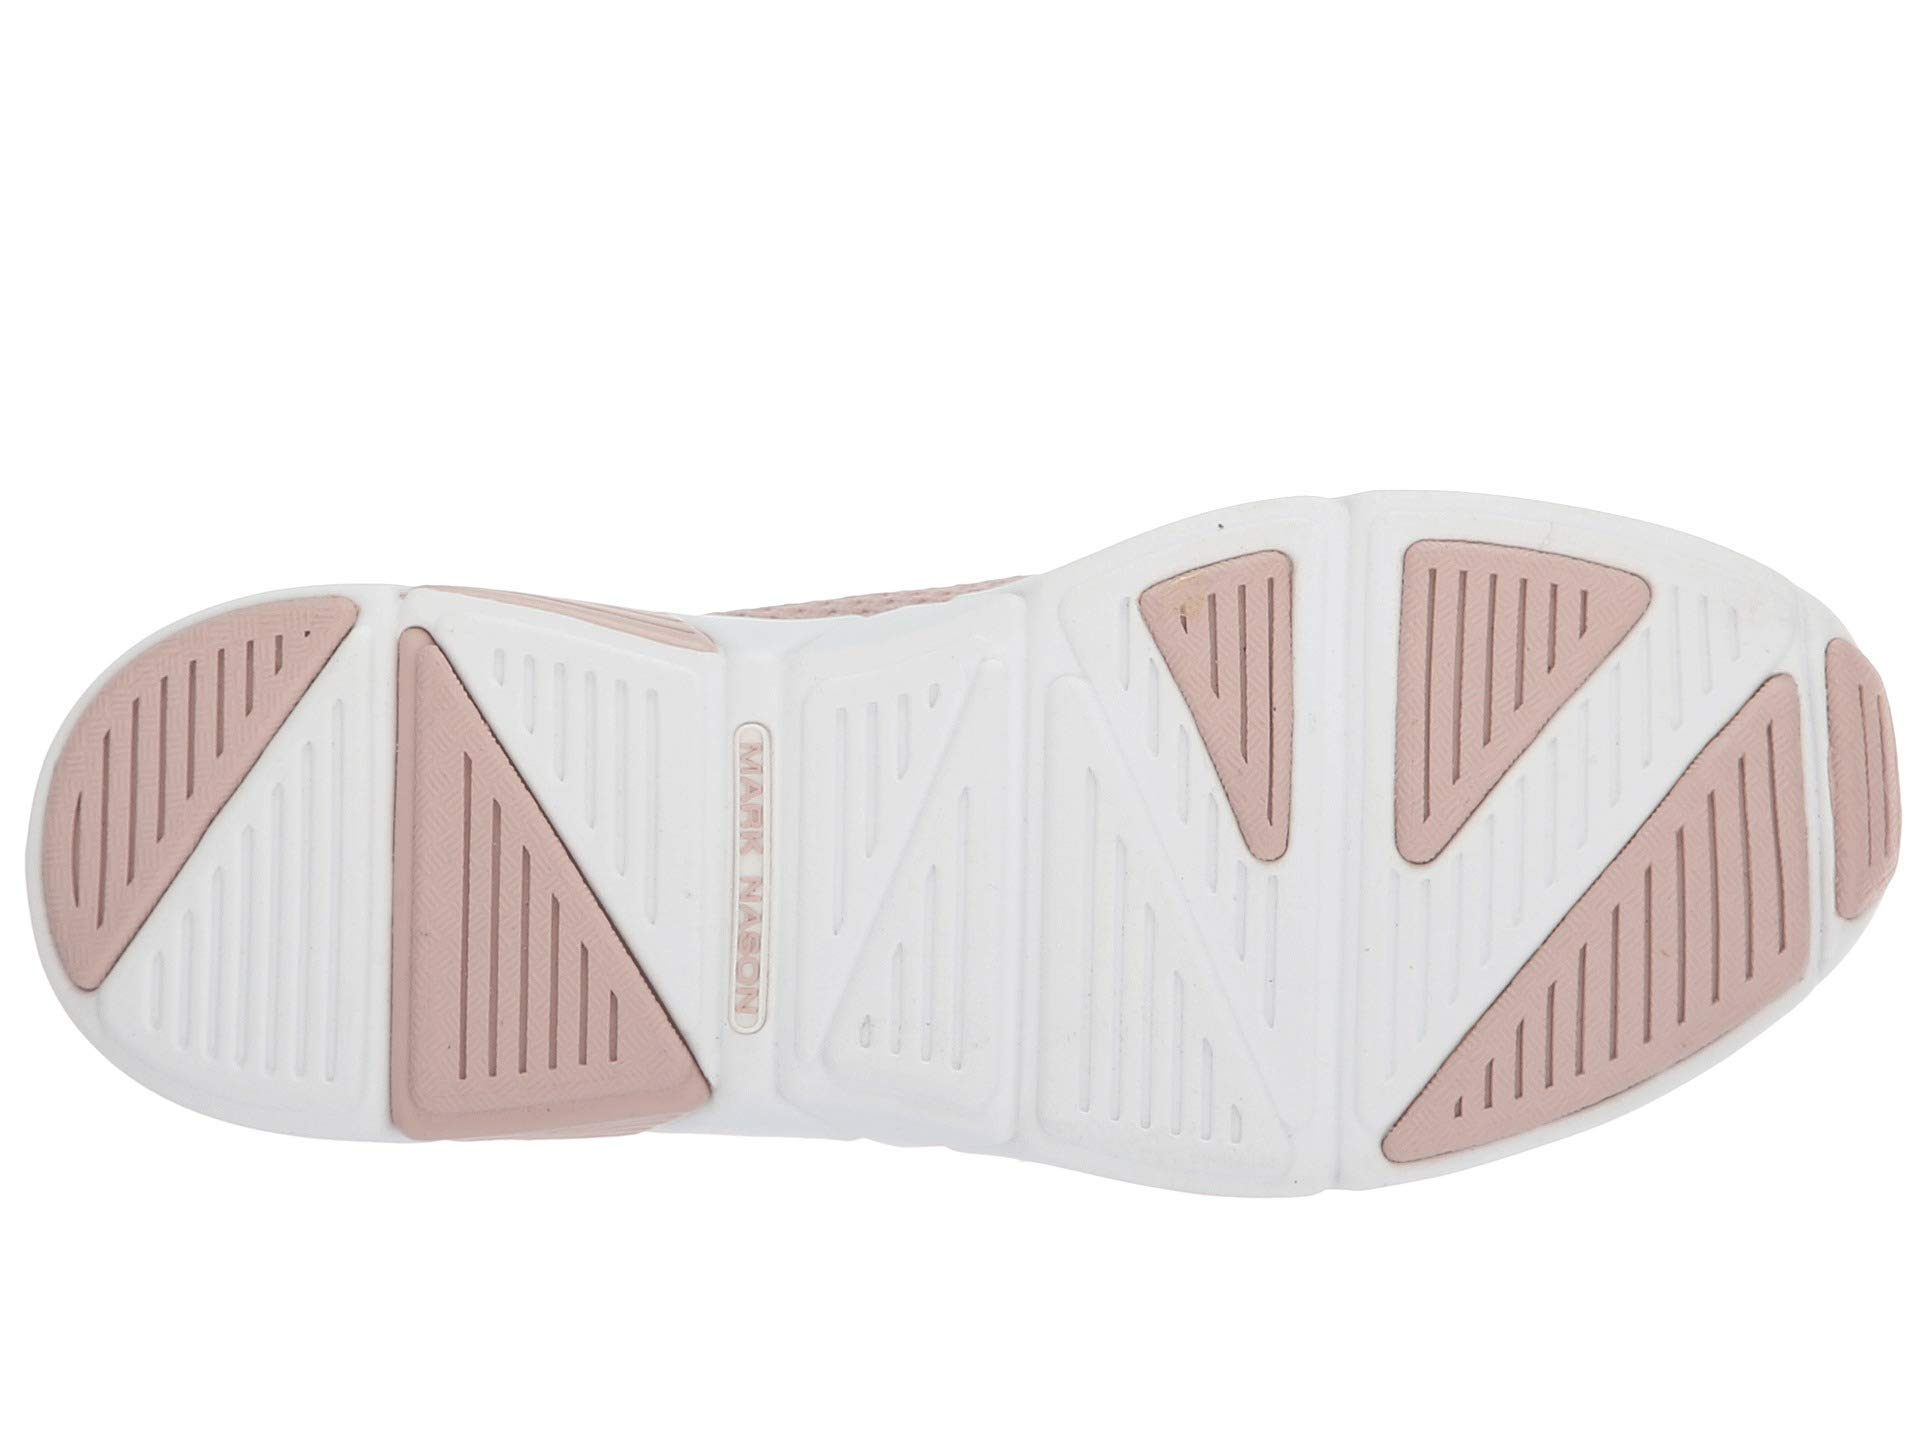line: (339, 582, 818, 1125), (1101, 545, 1438, 1009)
text: (339, 582, 818, 1125)
triangle: (339, 582, 818, 1125), (1101, 545, 1438, 1009)
